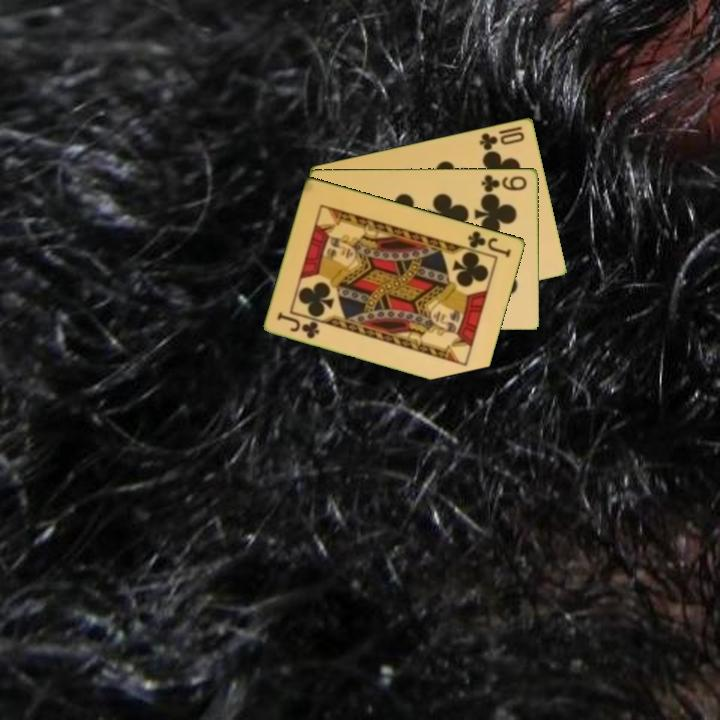10c: (476, 128, 528, 153)
9c: (478, 171, 530, 194)
Jc: (464, 227, 514, 260), (274, 308, 323, 341)
